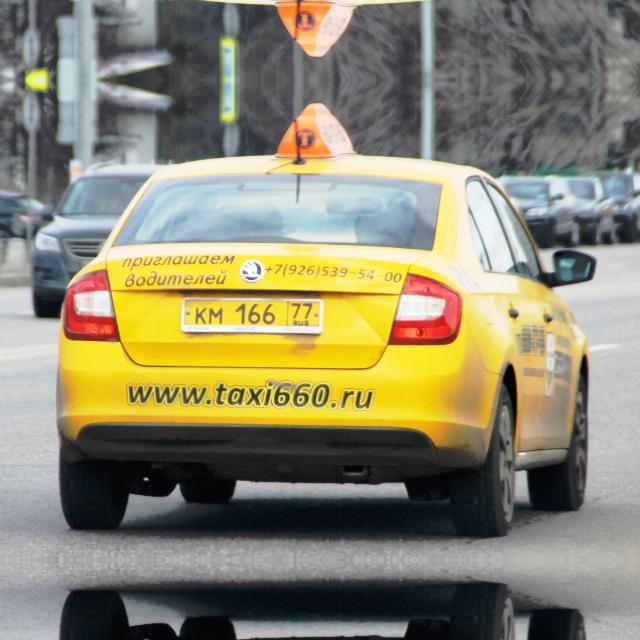taxi: (176, 293, 324, 339)
